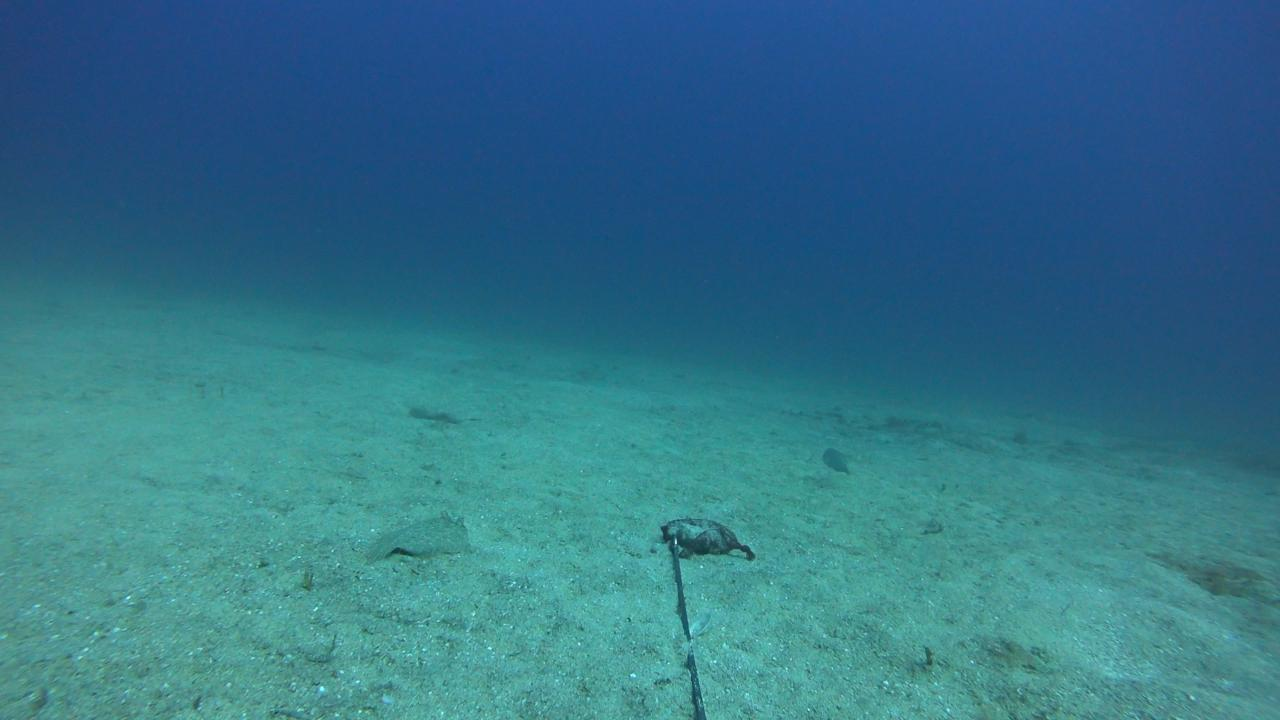bothus: (360, 503, 482, 567)
